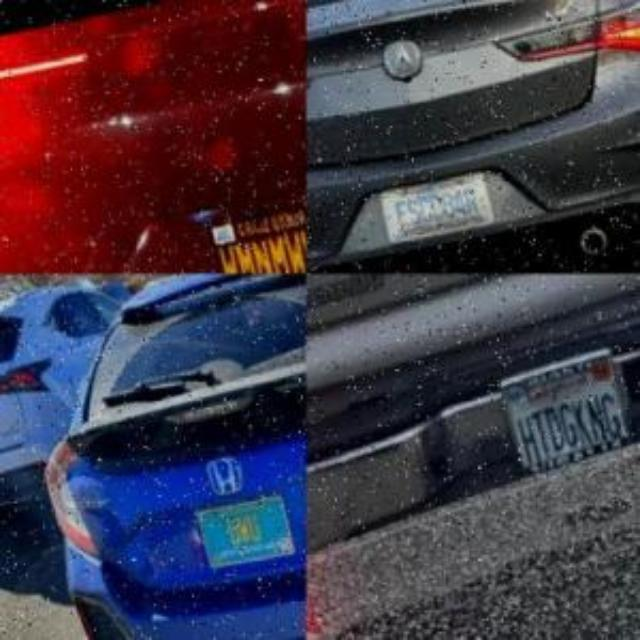License Plate: (497, 343, 636, 479), (199, 193, 306, 274), (380, 168, 496, 242), (196, 492, 297, 566)
